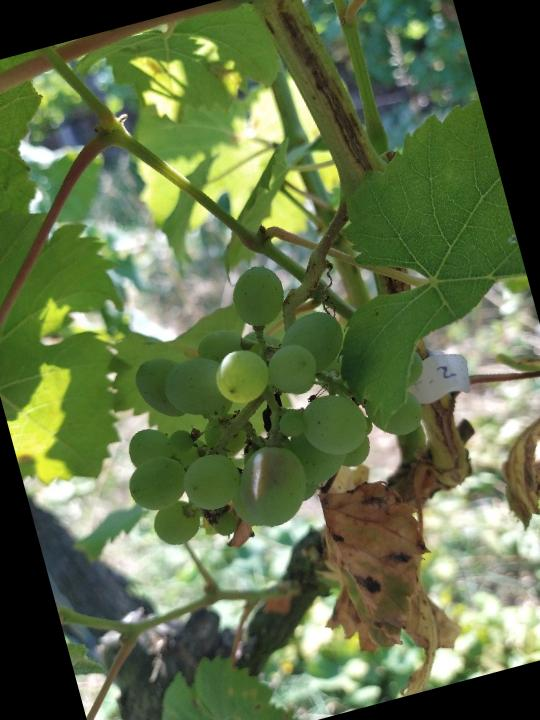grape: (79, 227, 456, 563)
